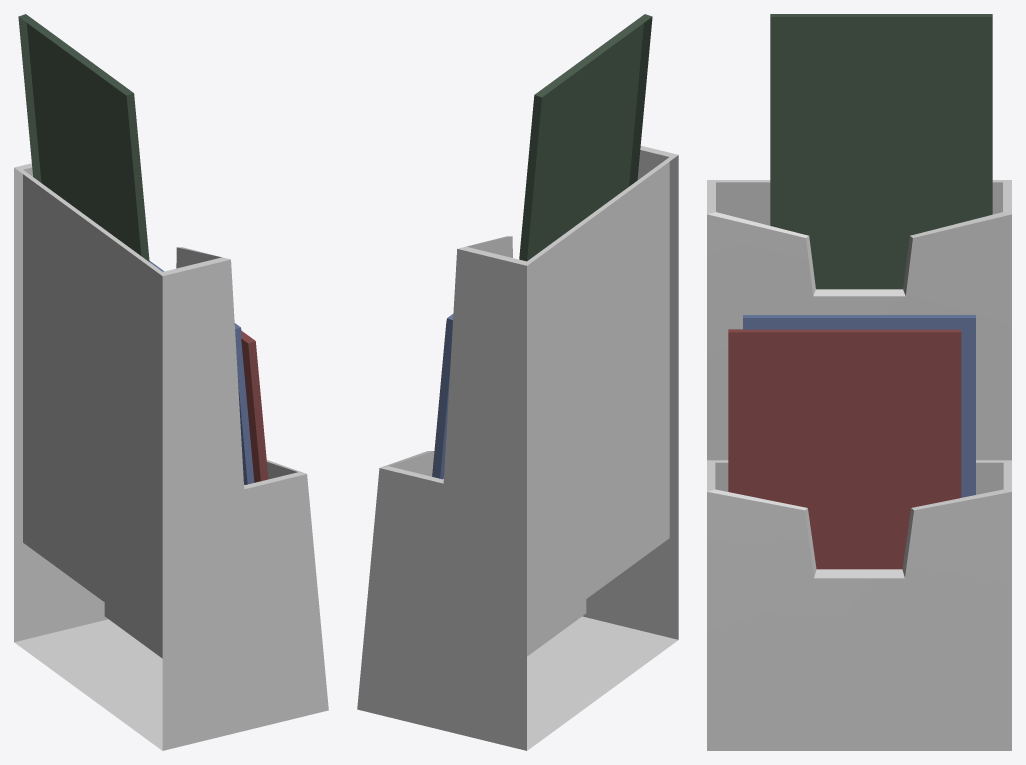
File: pamphlet holder.fbx
3 renders of one model, left to right at view 1: azimuth 30°, elevation 25°; view 2: azimuth 150°, elevation 25°; view 3: azimuth 270°, elevation 25°, orthographic. The views are drawn at different scales.
Parts seen in each view (by area): view 1: pCube6; view 2: pCube6; view 3: pCube6.
Part boxes in pixels (box(x1,y1,x2,y2)): pCube6: box(14, 14, 328, 750); pCube6: box(357, 14, 678, 750); pCube6: box(707, 14, 1011, 750).
Bounding box in the file's own units: 0.5157 × 1.82 × 0.7735.
